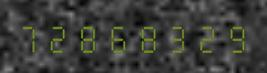eight: (75, 20, 103, 53), (133, 20, 161, 53)
nine: (220, 20, 248, 53)
seven: (17, 20, 45, 53)
six: (104, 20, 132, 53)
three: (162, 20, 190, 53)
two: (46, 20, 74, 53), (191, 20, 219, 53)
